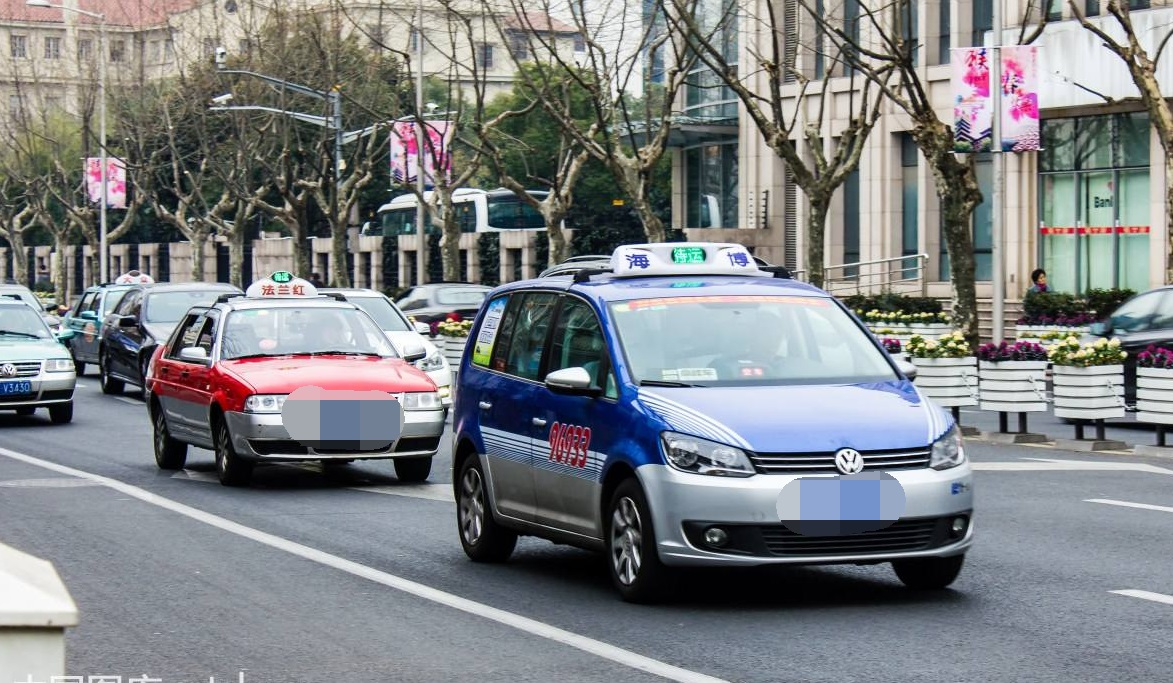taxi: (450, 236, 983, 605)
